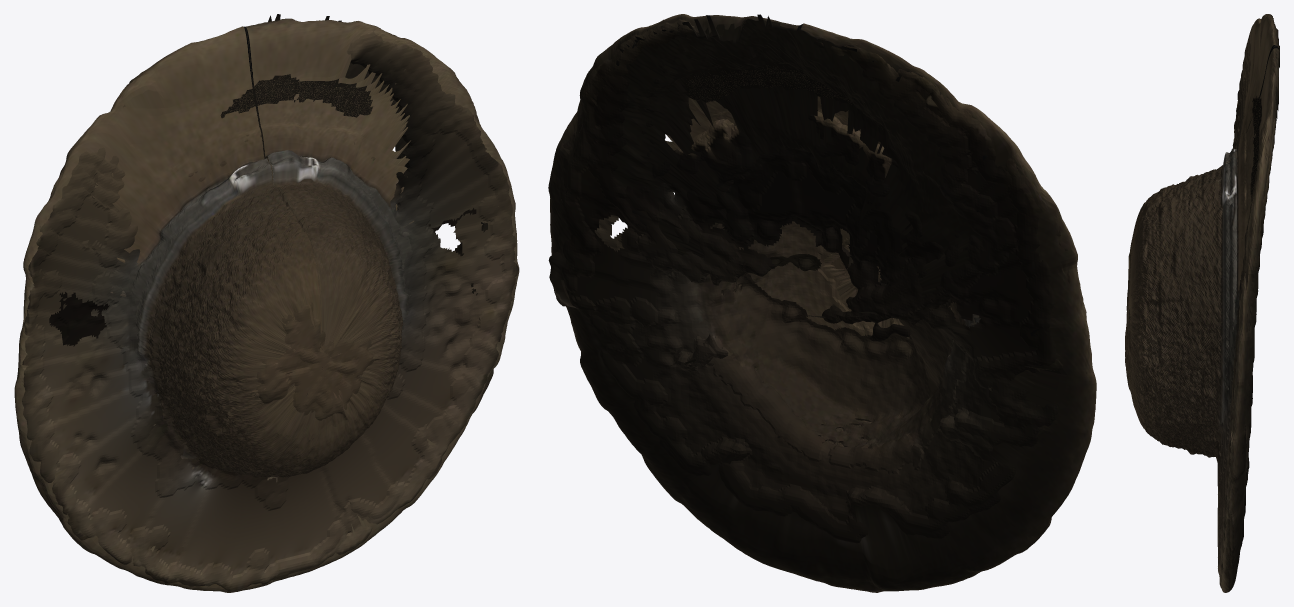
File: mesh_inpaint.glb
3 renders of one model, left to right at view 1: azimuth 30°, elevation 25°; view 2: azimuth 150°, elevation 25°; view 3: azimuth 270°, elevation 25°, orthographic. The views are drawn at different scales.
Parts seen in each view (by area): view 1: fill, ipn; view 2: fill, ipn; view 3: ipn, fill.
Part boxes in pixels (x1=…): fill: x1=22, y1=29, x2=516, y2=591; ipn: x1=14, y1=14, x2=519, y2=592; fill: x1=558, y1=19, x2=1087, y2=543; ipn: x1=548, y1=14, x2=1096, y2=592; ipn: x1=1126, y1=14, x2=1279, y2=592; fill: x1=1125, y1=24, x2=1275, y2=587.
Size of the model in its own units: 1.85 by 1.9 by 0.5098.
Materials: 2 (1 with a texture image).
